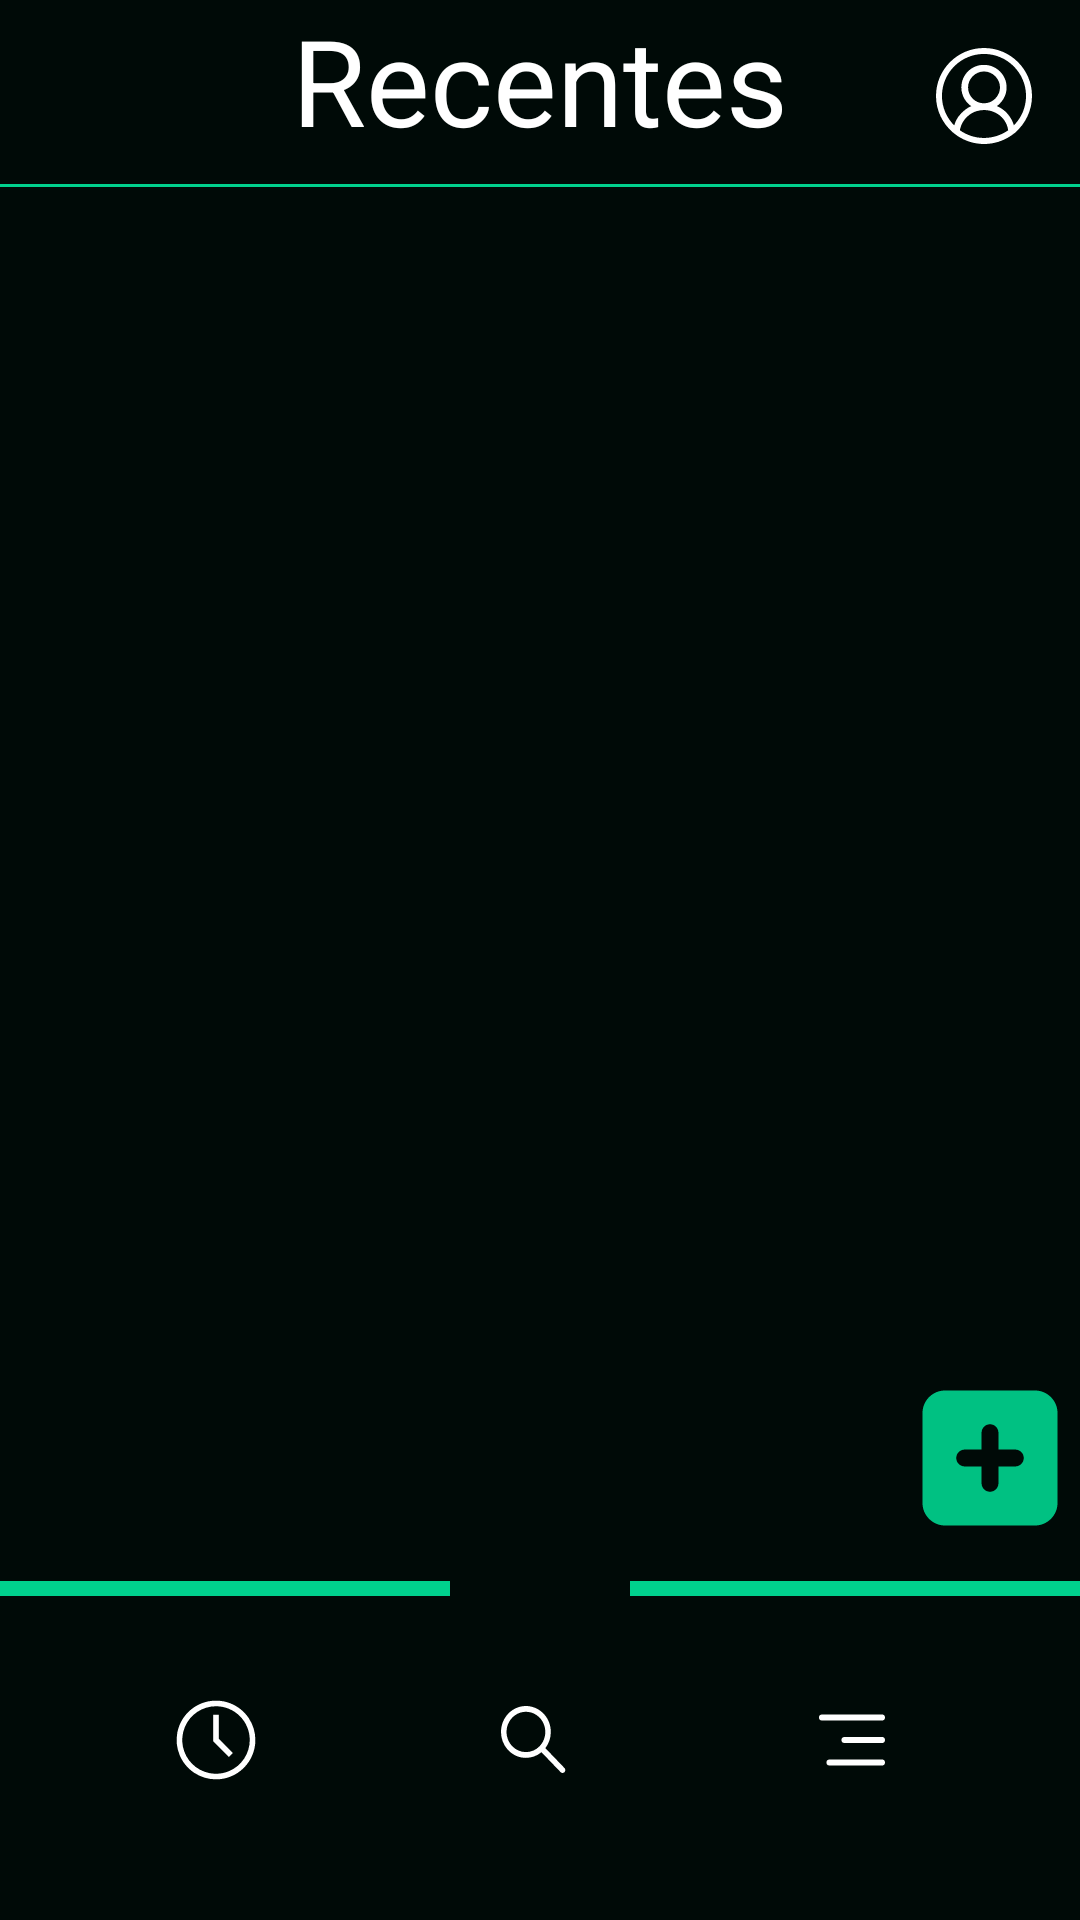

Icons on this 1080w x 1920h Android screen, each with its box as box(x1, y1, x2, y2):
Listar: box(819, 1714, 885, 1766)
pajamas file addition: box(922, 1390, 1058, 1526)
Pesquisa: box(501, 1706, 566, 1773)
RELOGIO: box(176, 1700, 256, 1780)
